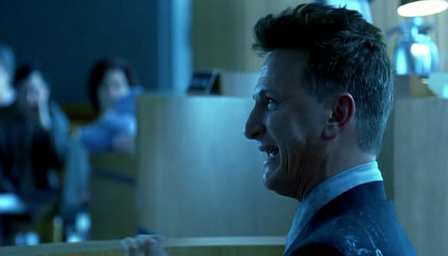cu: (1, 1, 448, 256)
face: (243, 66, 305, 190), (99, 71, 127, 114), (17, 78, 44, 112)
person: (243, 2, 418, 255), (60, 54, 150, 219), (1, 60, 73, 245)
